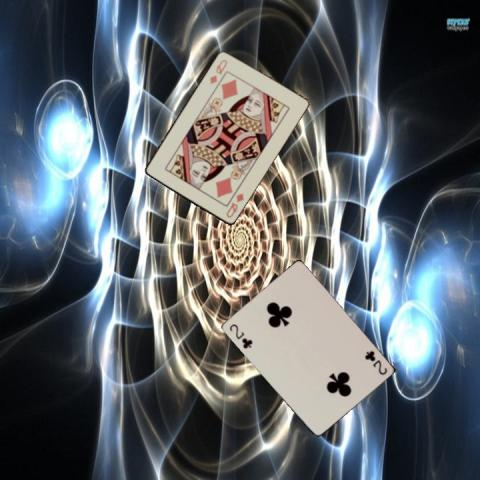2c: (361, 347, 389, 376), (226, 321, 253, 350)
Qd: (224, 190, 246, 219), (206, 57, 228, 85)
